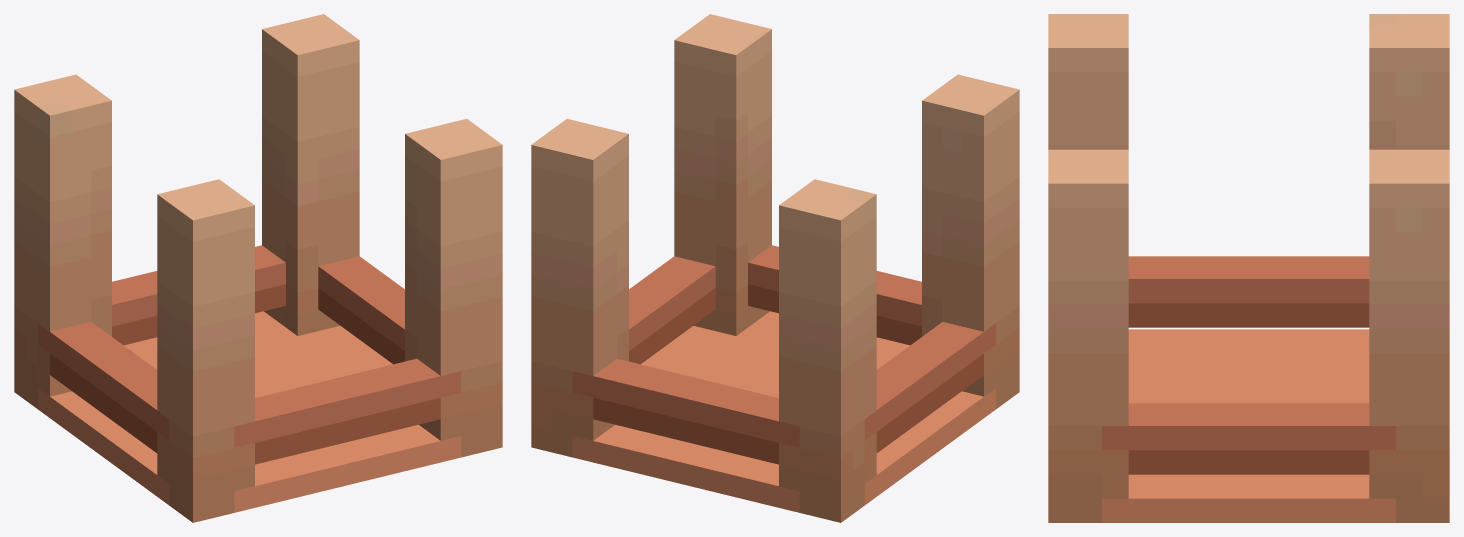
Rendered from tower-square-mid-open-simple.glb.
3 views of the same model, side by side, from view 1: azimuth 30°, elevation 25°; view 2: azimuth 150°, elevation 25°; view 3: azimuth 270°, elevation 25° (orthographic). The views are drawn at different scales.
Visible parts, largest first — view 1: tower-square-mid-open-simple; view 2: tower-square-mid-open-simple; view 3: tower-square-mid-open-simple.
Part boxes in pixels (x1,y1,x2,y2): tower-square-mid-open-simple: [14, 14, 502, 522]; tower-square-mid-open-simple: [531, 14, 1019, 522]; tower-square-mid-open-simple: [1048, 14, 1449, 522].
Bounding box in the file's own units: 0.996 × 0.9296 × 0.996.
1 material, 1 textured.
